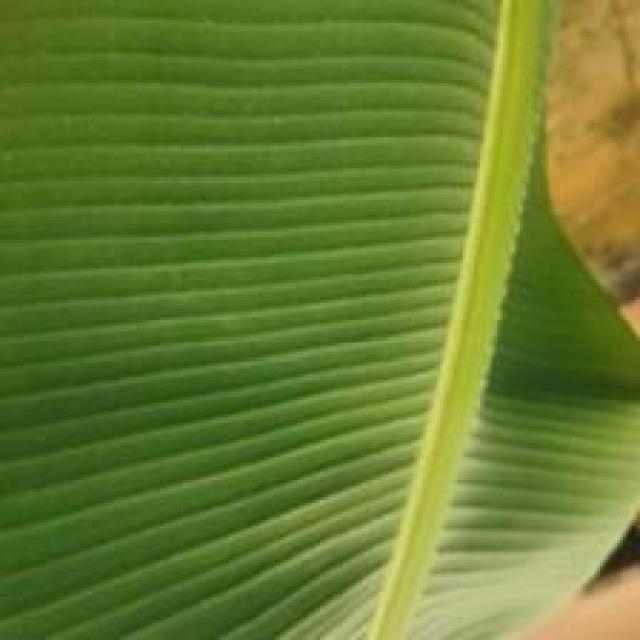Black_leaf_spot: (0, 0, 618, 619)
